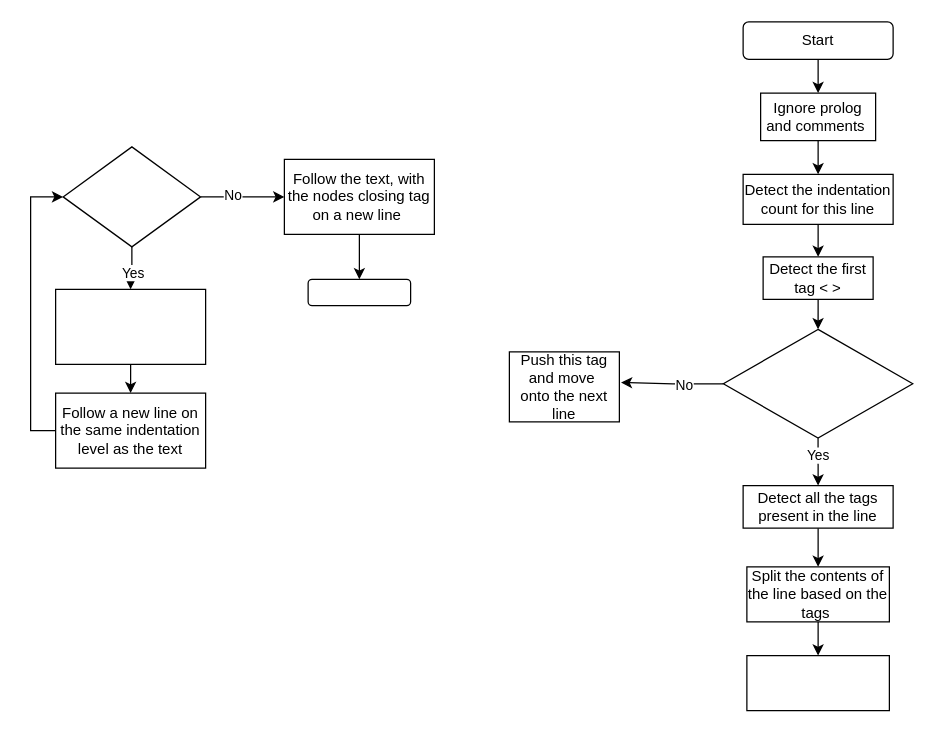
Some shapes in this 935 by 733 pixel diagram are drawn without their labels. Here are the shapes that lost their labels. From the top down, the box of each, then its label:
(62, 146, 201, 247): Does text contain a tag as well
(307, 278, 411, 306): End
(54, 288, 206, 364): replace all the text in the location of this inner tag with a key
(722, 328, 913, 438): does the line also include the closing tag?
(746, 654, 889, 711): set the appropriate indentation based on the originals line
